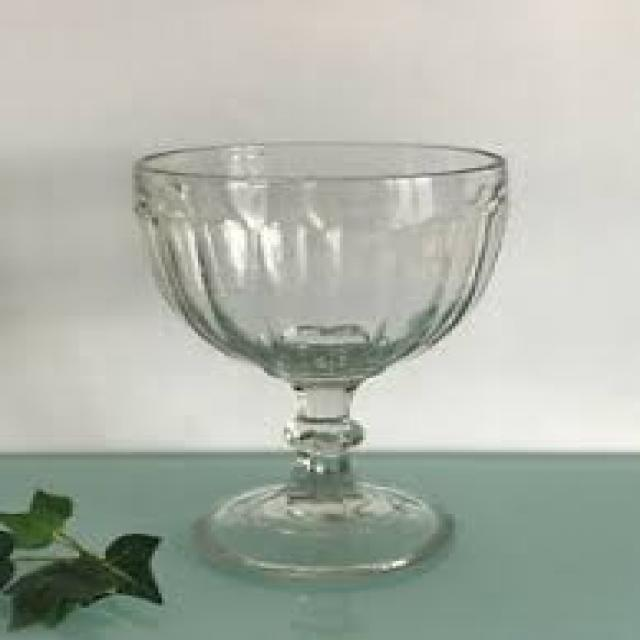organic waste: (0, 532, 162, 620), (0, 487, 79, 553)
